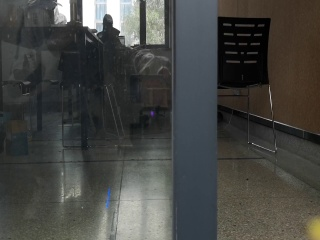room: (2, 2, 314, 230)
